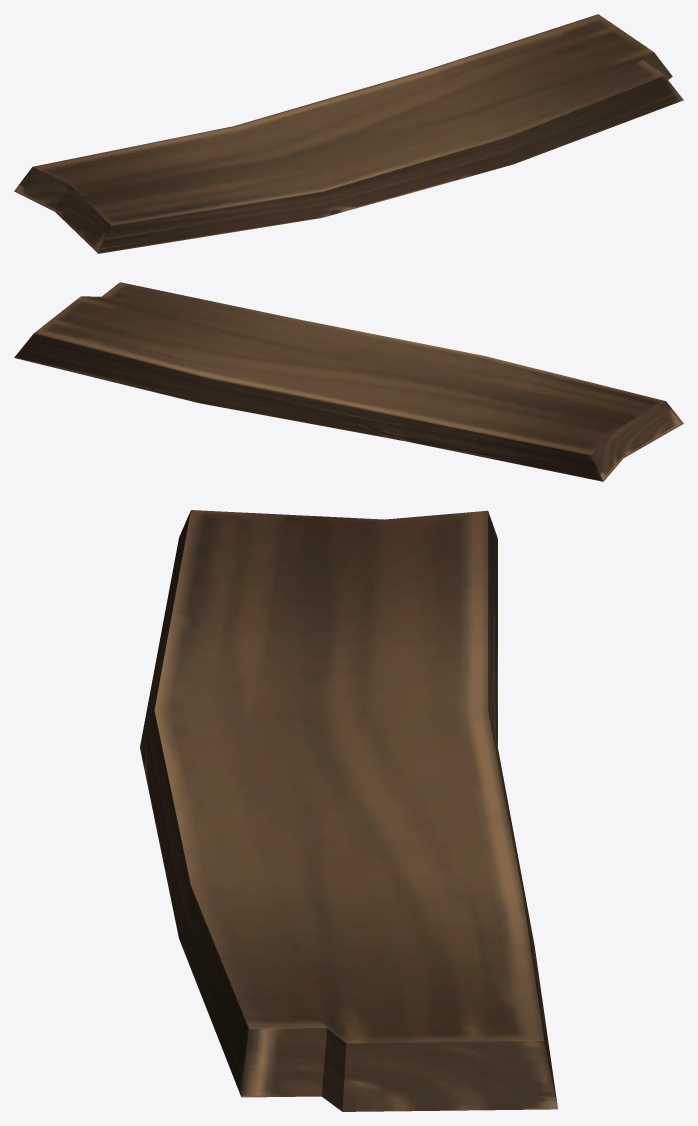
The model's file is bandit_groundboard_01.fbx.
3 views of the same model, one above another, from view 1: azimuth 30°, elevation 25°; view 2: azimuth 150°, elevation 25°; view 3: azimuth 270°, elevation 25° (orthographic). The views are drawn at different scales.
Parts seen in each view (by area): view 1: obj0.535; view 2: obj0.535; view 3: obj0.535.
Part boxes in pixels (x1=…): obj0.535: x1=14, y1=14, x2=683, y2=253; obj0.535: x1=14, y1=282, x2=683, y2=481; obj0.535: x1=140, y1=510, x2=557, y2=1111.
Size of the model in its own units: 2.49 by 0.1321 by 0.7792.
